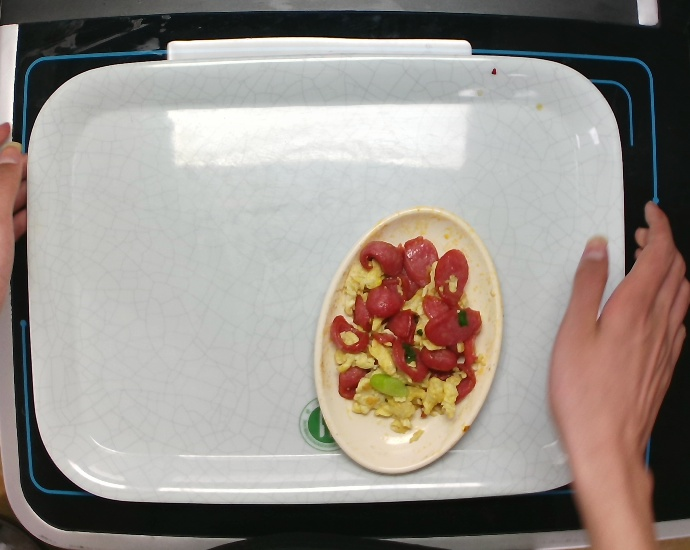JYsf-Tuo_Yuan_Wan: (311, 204, 507, 477)
